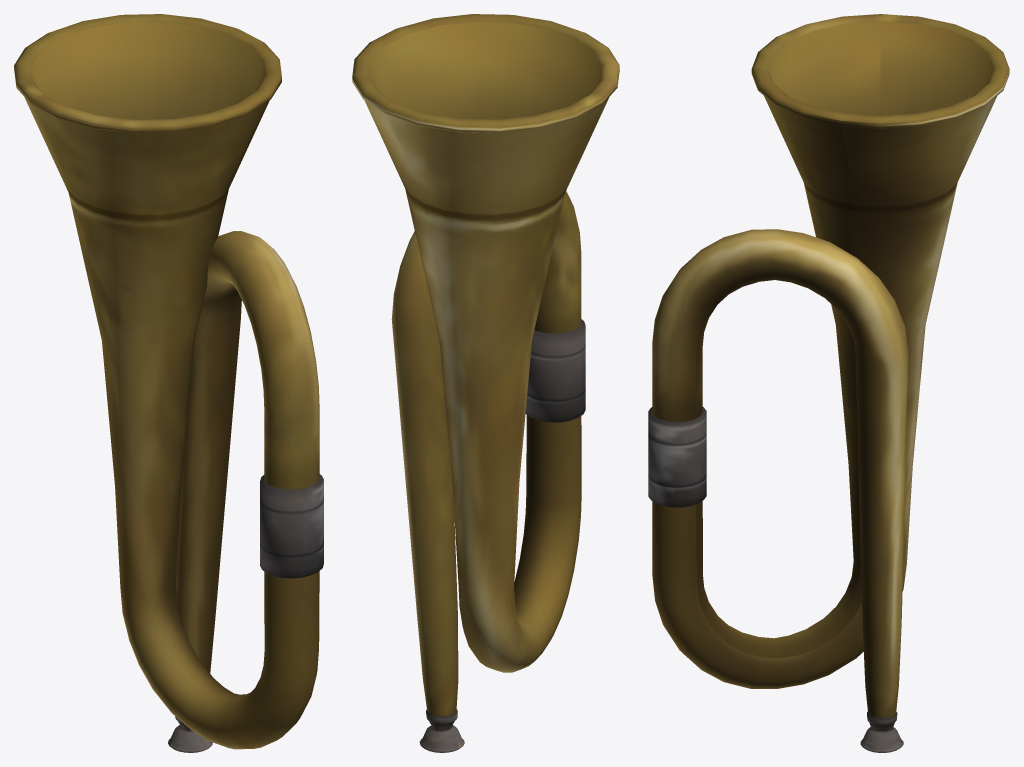
Rendered from Clairon.FBX.
3 renders of one model, left to right at view 1: azimuth 30°, elevation 25°; view 2: azimuth 150°, elevation 25°; view 3: azimuth 270°, elevation 25°, orthographic. The views are drawn at different scales.
Parts seen in each view (by area): view 1: Cylinder009; view 2: Cylinder009; view 3: Cylinder009.
Boxes of the visible parts, x1,y1,x2,y2 form: Cylinder009: [14, 14, 323, 752]; Cylinder009: [352, 14, 619, 752]; Cylinder009: [648, 14, 1009, 752].
Bounding box in the file's own units: 0.3509 × 0.9874 × 0.4916.
